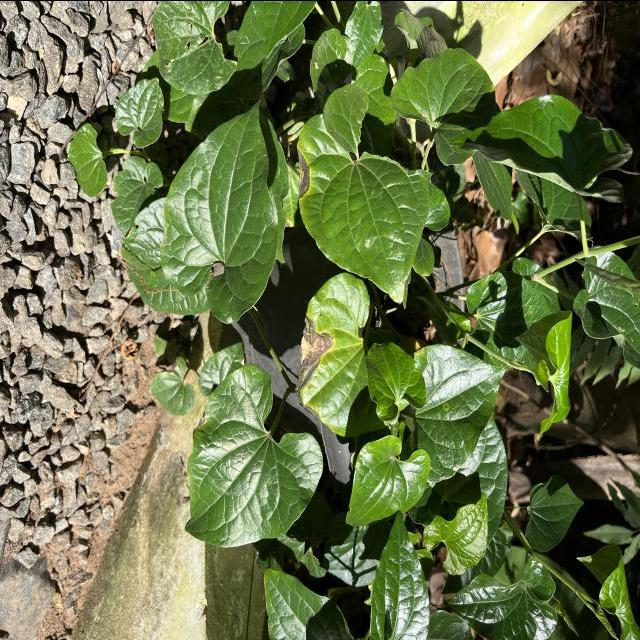Piper longum: (158, 93, 282, 324), (182, 359, 326, 549), (406, 341, 511, 485), (388, 44, 498, 168), (344, 432, 434, 530), (420, 489, 490, 577), (364, 339, 429, 422)
